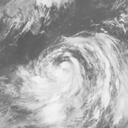cyclone: (30, 36, 97, 108)
